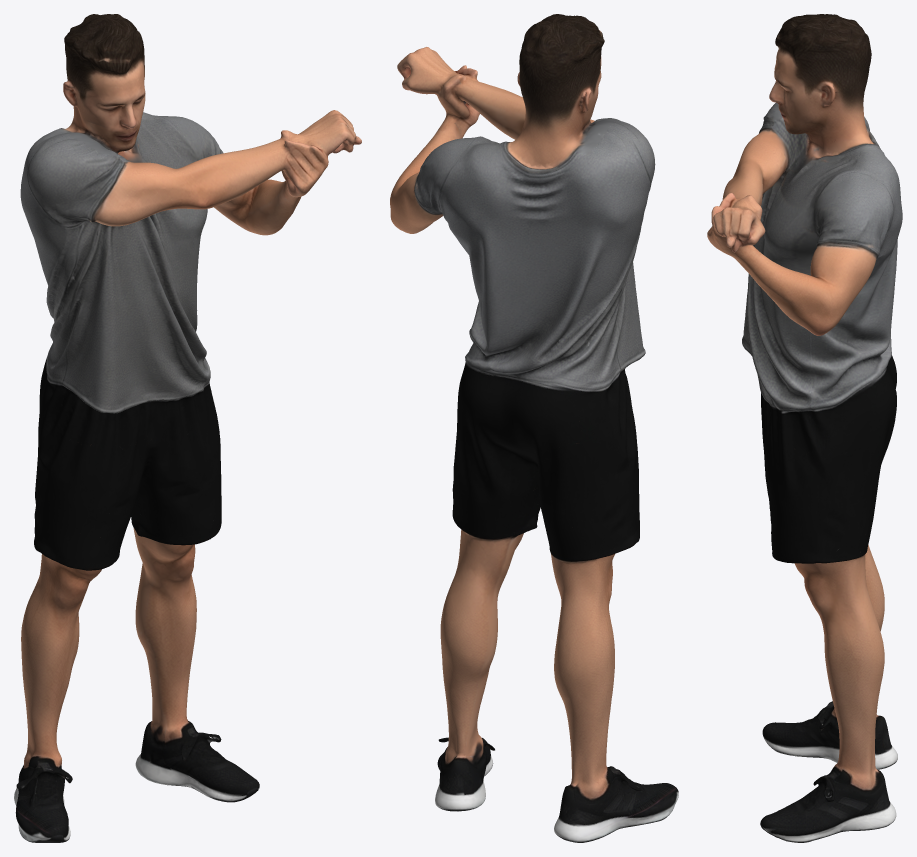
Rendered from PersonaHombro.fbx.
3 renders of one model, left to right at view 1: azimuth 30°, elevation 25°; view 2: azimuth 150°, elevation 25°; view 3: azimuth 270°, elevation 25°, orthographic. The views are drawn at different scales.
Visible parts, largest first — view 1: Mesh_0; view 2: Mesh_0; view 3: Mesh_0.
Boxes of the visible parts, x1=… form: Mesh_0: x1=14, y1=14, x2=361, y2=842; Mesh_0: x1=390, y1=14, x2=678, y2=842; Mesh_0: x1=707, y1=14, x2=902, y2=842.
Bounding box in the file's own units: 76 × 190 × 43.79.
Materials: 1 (1 with a texture image).
